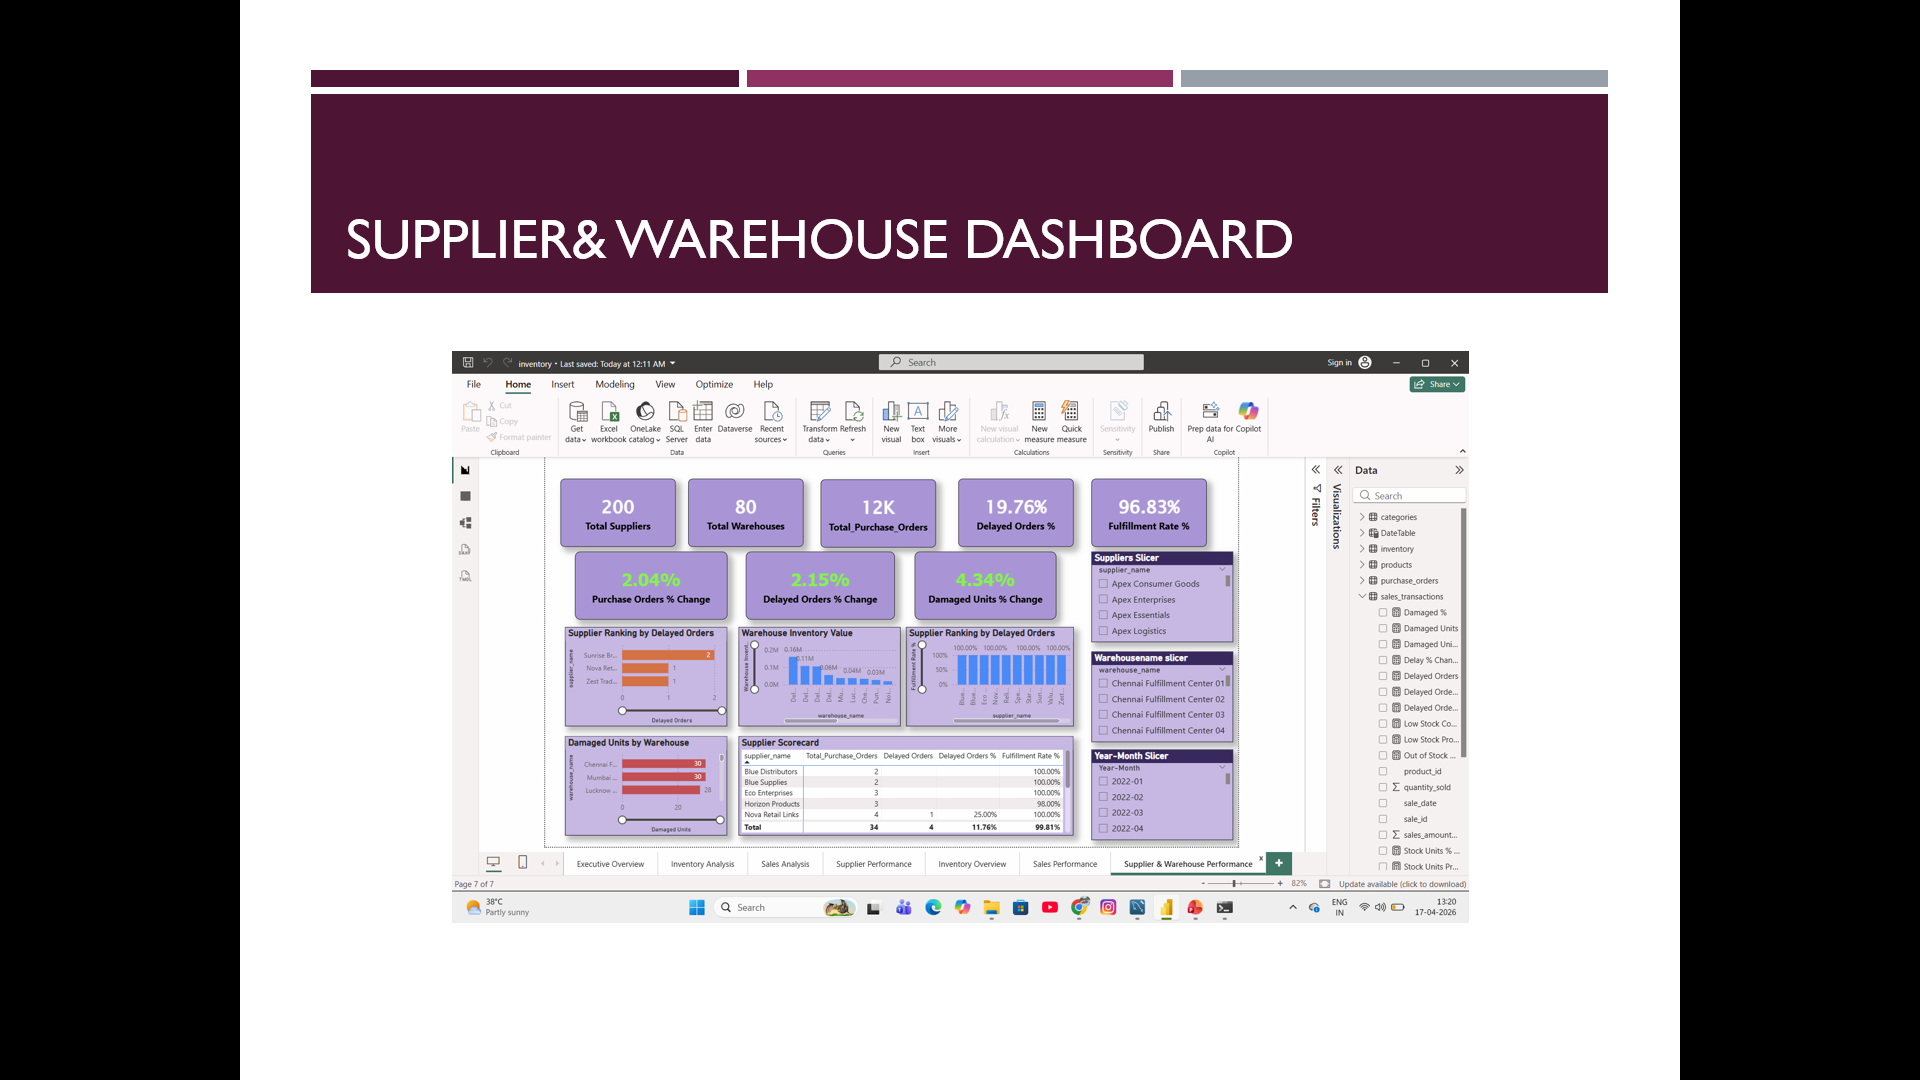

Layout of this report page (visuals, bound fields, positions):
{"tool":"powerbi","page":{"name":"Supplier & Warehouse Performance","canvas":[1280,720],"ordinal":2},"visuals":[{"type":"card","fields":{"Values":["DateTable.Total Suppliers"]},"box":[28.1,40.4,212.8,126],"z":0},{"type":"card","fields":{"Values":["DateTable.Total Warehouses"]},"box":[264.1,40.4,212.8,126],"z":1},{"type":"card","fields":{"Values":["DateTable.Total_Purchase_Orders"]},"box":[508.7,41.6,212.8,126],"z":2},{"type":"card","fields":{"Values":["DateTable.Delayed Orders %"]},"box":[763,40.4,212.8,126],"z":3},{"type":"card","fields":{"Values":["DateTable.Fulfillment Rate %"]},"box":[1008.8,40.4,212.8,126],"z":4},{"type":"card","fields":{"Values":["DateTable.Purchase Orders % Change"]},"box":[55,174.9,281.3,126],"z":5},{"type":"card","fields":{"Values":["sales_transactions.Delayed Orders % Change"]},"box":[370.5,174.9,275.1,126],"z":6},{"type":"card","fields":{"Values":["DateTable.Damaged Units % Change"]},"box":[682.3,174.9,261.7,126],"z":7},{"type":"clusteredBarChart","title":"Supplier Ranking by Delayed Orders","fields":{"Category":["suppliers.supplier_name"],"Y":["sales_transactions.Delayed Orders"]},"box":[36.7,314.3,299.6,183.4],"z":8},{"type":"clusteredColumnChart","title":"Supplier Ranking by Delayed Orders","fields":{"Category":["suppliers.supplier_name"],"Y":["DateTable.Fulfillment Rate %"]},"box":[666.4,314.3,309.4,183.4],"z":9},{"type":"barChart","title":"Damaged Units by Warehouse","fields":{"Category":["warehouses.warehouse_name"],"Y":["sales_transactions.Damaged Units"]},"box":[36.7,516,299.6,183.4],"z":10},{"type":"columnChart","title":"Warehouse Inventory Value","fields":{"Category":["warehouses.warehouse_name"],"Y":["DateTable.Warehouse Inventory Value"]},"box":[357.1,314.3,299.6,183.4],"z":11},{"type":"pivotTable","title":"Supplier Scorecard","fields":{"Rows":["suppliers.supplier_name"],"Values":["DateTable.Total_Purchase_Orders","sales_transactions.Delayed Orders","DateTable.Delayed Orders %","DateTable.Fulfillment Rate %"]},"box":[357.1,516,618.8,183.4],"z":12},{"type":"slicer","title":"Suppliers Slicer","fields":{"Values":["suppliers.supplier_name"]},"box":[1008.8,174.9,261.7,167.5],"z":13},{"type":"slicer","title":"Warehousename slicer","fields":{"Values":["warehouses.warehouse_name"]},"box":[1008.8,359.5,261.7,167.5],"z":14},{"type":"slicer","title":"Year-Month Slicer","fields":{"Values":["DateTable.Year-Month"]},"box":[1008.8,540.5,261.7,167.5],"z":15}]}

Visuals, with their boxes on the page's 1280x720 design canvas (x1, y1, x2, y2). These are canvas units, not pixel positions in the 1920x1080 screenshot, which may show the page scaled, cropped or inside an application window:
card - DateTable.Total Suppliers: {"left": 28, "top": 40, "right": 241, "bottom": 166}
card - DateTable.Total Warehouses: {"left": 264, "top": 40, "right": 477, "bottom": 166}
card - DateTable.Total_Purchase_Orders: {"left": 509, "top": 42, "right": 722, "bottom": 168}
card - DateTable.Delayed Orders %: {"left": 763, "top": 40, "right": 976, "bottom": 166}
card - DateTable.Fulfillment Rate %: {"left": 1009, "top": 40, "right": 1222, "bottom": 166}
card - DateTable.Purchase Orders % Change: {"left": 55, "top": 175, "right": 336, "bottom": 301}
card - sales_transactions.Delayed Orders % Change: {"left": 370, "top": 175, "right": 646, "bottom": 301}
card - DateTable.Damaged Units % Change: {"left": 682, "top": 175, "right": 944, "bottom": 301}
"Supplier Ranking by Delayed Orders" clusteredBarChart: {"left": 37, "top": 314, "right": 336, "bottom": 498}
"Supplier Ranking by Delayed Orders" clusteredColumnChart: {"left": 666, "top": 314, "right": 976, "bottom": 498}
"Damaged Units by Warehouse" barChart: {"left": 37, "top": 516, "right": 336, "bottom": 699}
"Warehouse Inventory Value" columnChart: {"left": 357, "top": 314, "right": 657, "bottom": 498}
"Supplier Scorecard" pivotTable: {"left": 357, "top": 516, "right": 976, "bottom": 699}
"Suppliers Slicer" slicer: {"left": 1009, "top": 175, "right": 1270, "bottom": 342}
"Warehousename slicer" slicer: {"left": 1009, "top": 360, "right": 1270, "bottom": 527}
"Year-Month Slicer" slicer: {"left": 1009, "top": 540, "right": 1270, "bottom": 708}
